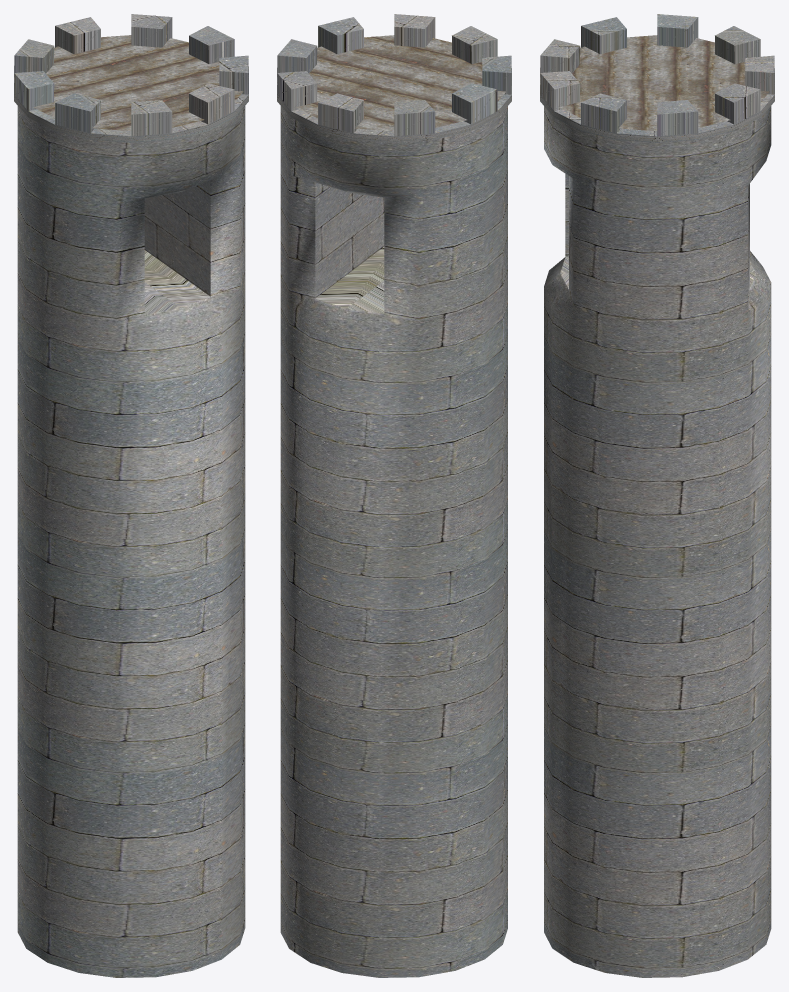
The model's file is CastleT2.FBX.
The picture shows the model from 3 angles, left to right: view 1: azimuth 30°, elevation 25°; view 2: azimuth 150°, elevation 25°; view 3: azimuth 270°, elevation 25°; orthographic projection.
Parts seen in each view (by area): view 1: CircleTower, CircleTowerRidges, Object002; view 2: CircleTower, CircleTowerRidges, Object002; view 3: CircleTower, CircleTowerRidges, Object002.
Part boxes in pixels (x1,y1,x2,y2): CircleTower: (17, 106, 245, 977); CircleTowerRidges: (14, 14, 248, 142); Object002: (33, 35, 242, 131); CircleTower: (280, 106, 507, 977); CircleTowerRidges: (277, 14, 511, 142); Object002: (296, 35, 505, 131); CircleTower: (544, 106, 771, 977); CircleTowerRidges: (540, 14, 774, 142); Object002: (559, 35, 769, 131).
Size of the model in its own units: 49.59 by 199 by 48.83.
